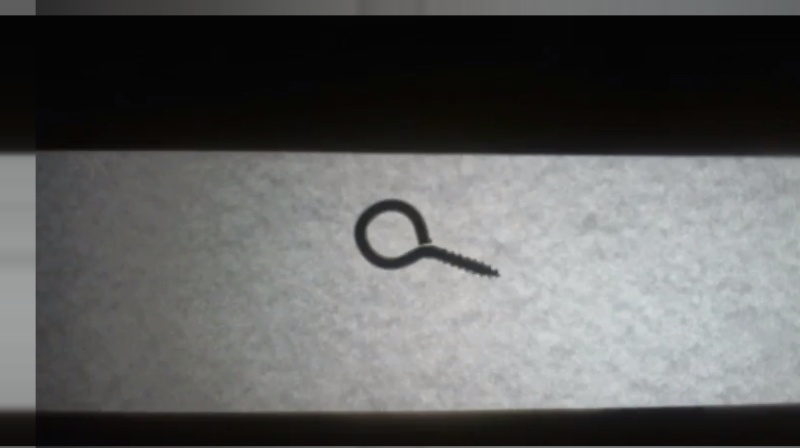O001: (349, 195, 503, 283)
